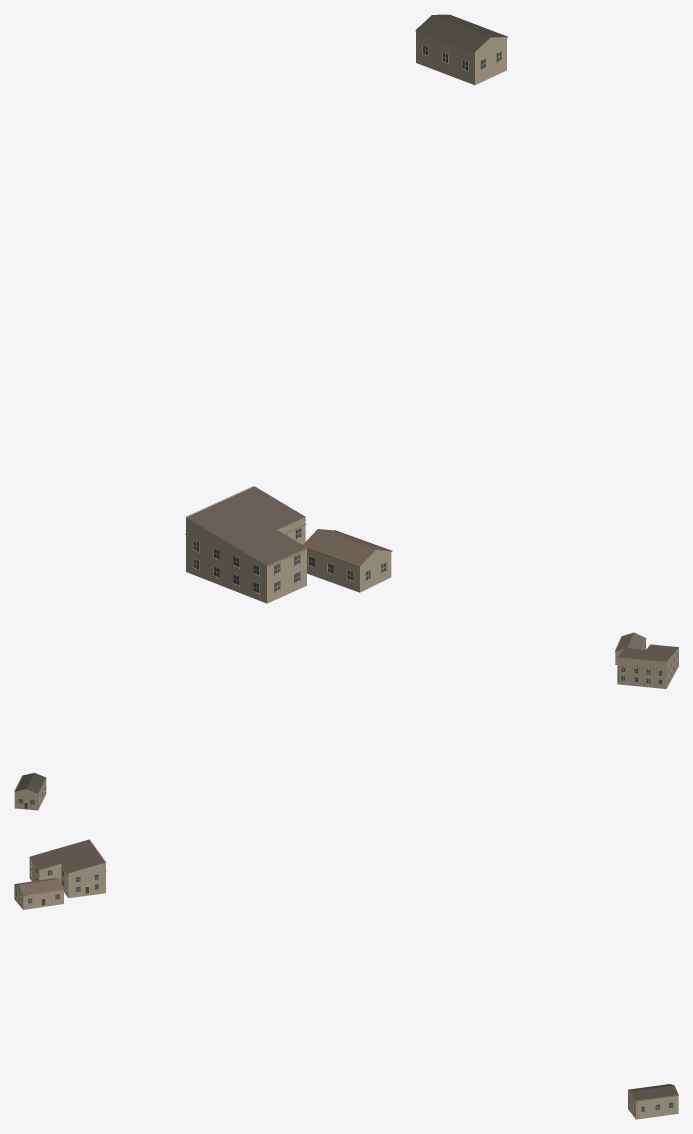
3 views of the same model, one above another, from view 1: azimuth 30°, elevation 25°; view 2: azimuth 150°, elevation 25°; view 3: azimuth 270°, elevation 25° (orthographic). The views are drawn at different scales.
Visible parts, largest first — view 1: -14_1_619854403_11; view 2: -14_1_619854403_11; view 3: -14_1_619854403_11.
Boxes of the visible parts, left/top/right/bottom form: -14_1_619854403_11: left=185, top=14, right=507, bottom=603; -14_1_619854403_11: left=14, top=632, right=678, bottom=810; -14_1_619854403_11: left=14, top=839, right=678, bottom=1119.
Bounding box in the file's own units: 160 × 19.47 × 202.
